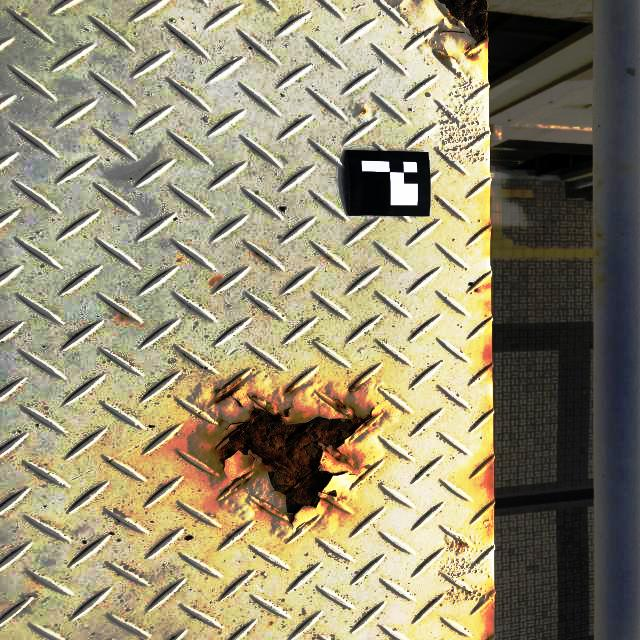Corrosion: (215, 368, 383, 523), (433, 0, 489, 59), (486, 610, 495, 640), (485, 456, 496, 471), (485, 346, 493, 365), (349, 384, 361, 392)
